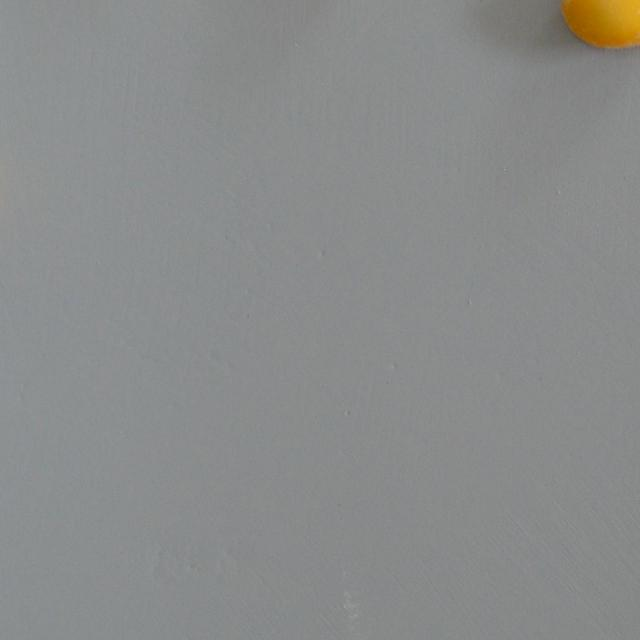dañado: (554, 0, 640, 52)
